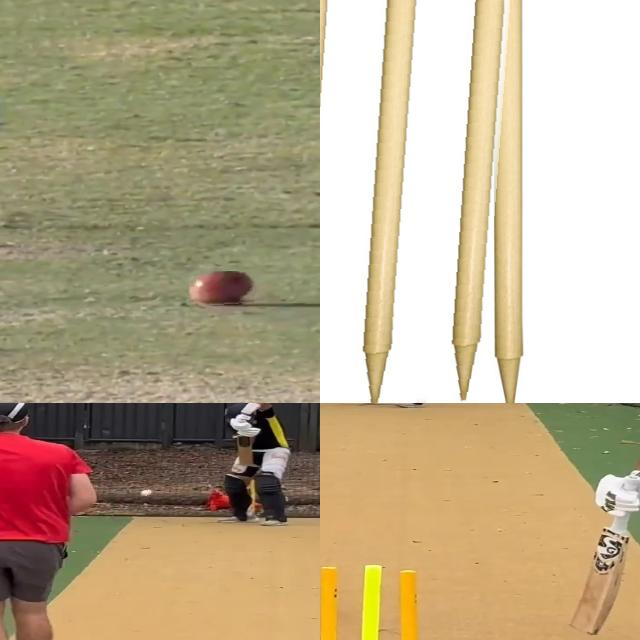Cricket ball: (189, 271, 257, 307), (140, 487, 155, 497)
Stumps: (320, 0, 528, 403), (320, 562, 439, 640)
